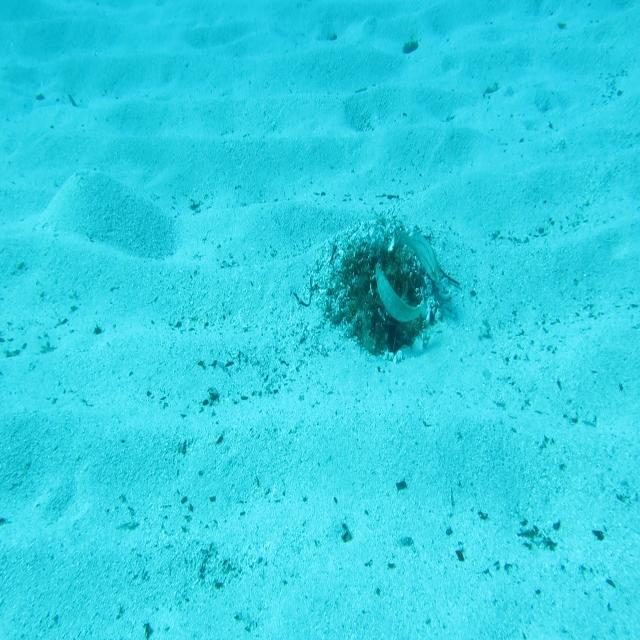DAN_CIRC: (372, 266, 428, 324)
female: (394, 227, 444, 286)
nest: (329, 200, 454, 347)
